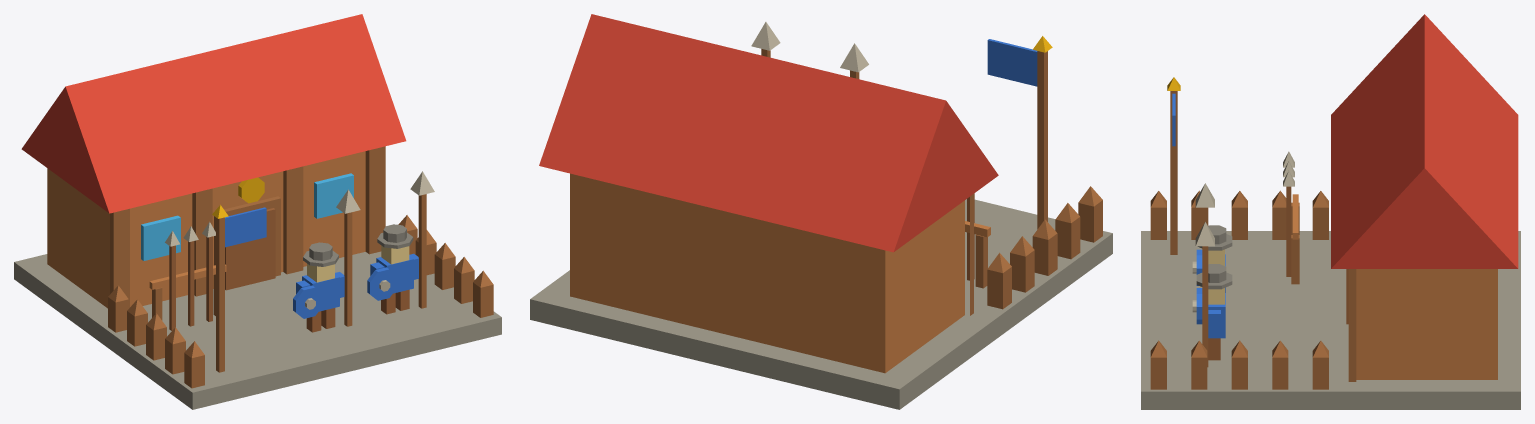
The model's file is barracks_t2_v1.glb.
3 renders of one model, left to right at view 1: azimuth 30°, elevation 25°; view 2: azimuth 150°, elevation 25°; view 3: azimuth 270°, elevation 25°, orthographic. The views are drawn at different scales.
Visible parts, largest first — view 1: barracks_t2_v1; view 2: barracks_t2_v1; view 3: barracks_t2_v1.
Part boxes in pixels (x1=…): barracks_t2_v1: x1=14, y1=14, x2=501, y2=409; barracks_t2_v1: x1=530, y1=14, x2=1112, y2=409; barracks_t2_v1: x1=1141, y1=14, x2=1520, y2=409.
Bounding box in the file's own units: 0.75 × 0.52 × 0.75.
1 material, 1 textured.
